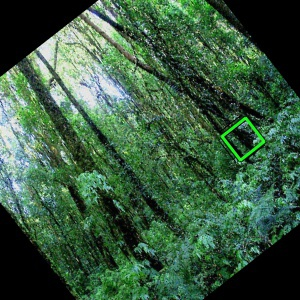square: (216, 114, 267, 164)
